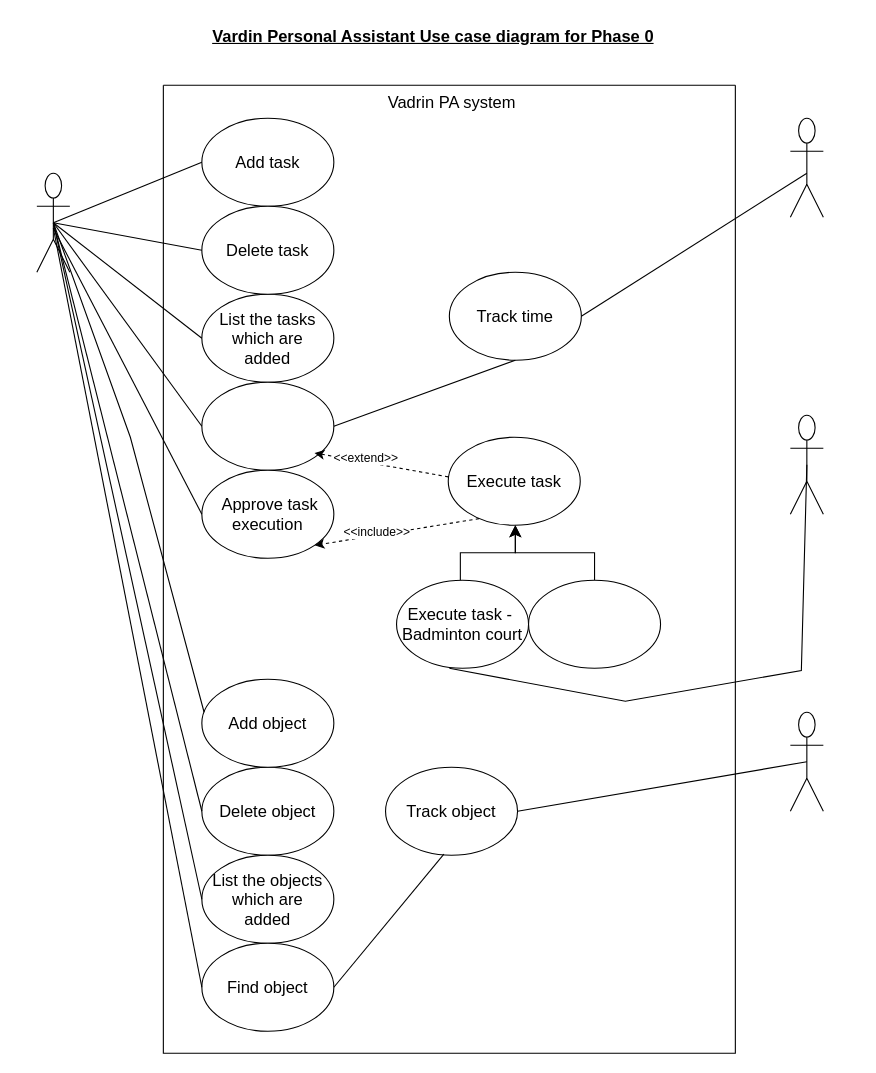
Some shapes in this 876 by 1073 pixel diagram are drawn without their labels. Here are the shapes that lost their labels. From the top down, the centre of each, then its label:
At [806,167]: "Time".
At [53,222]: "Vadrin.com Subscribed User".
At [267,425]: "Remind task".
At [806,464]: "Badminton court booking system".
At [594,623]: "Execute task - Fill time sheet".
At [806,761]: "Tracking device".
